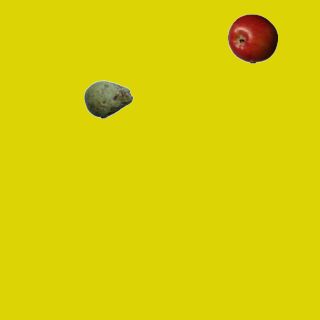Apple Braeburn: (227, 13, 277, 63)
Pear Stone: (83, 74, 133, 124)
